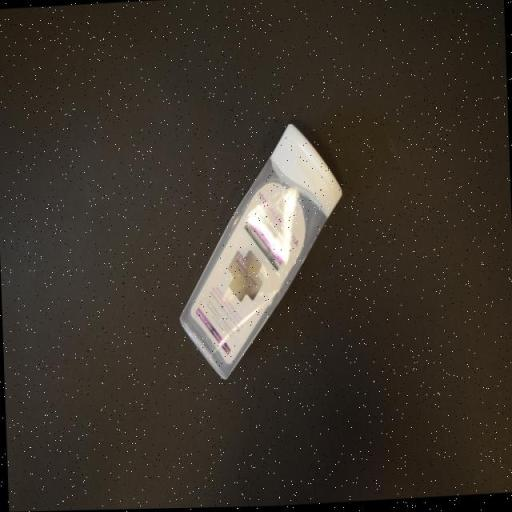plastic: (170, 118, 353, 388)
